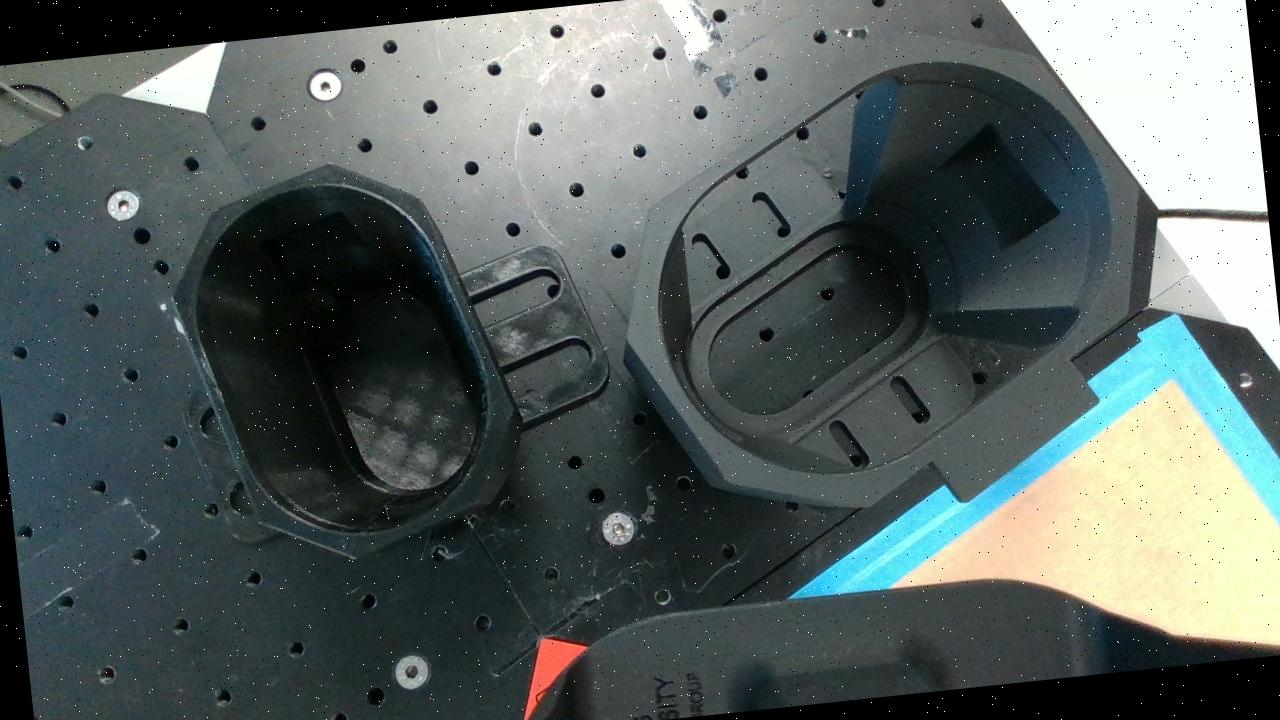big_interface: (597, 10, 1171, 530)
small_interface: (158, 147, 528, 575)
